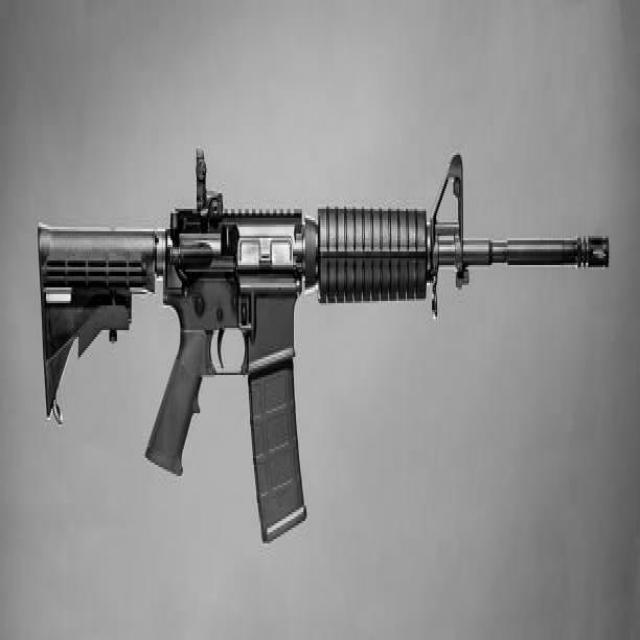weapon: (36, 143, 610, 546)
